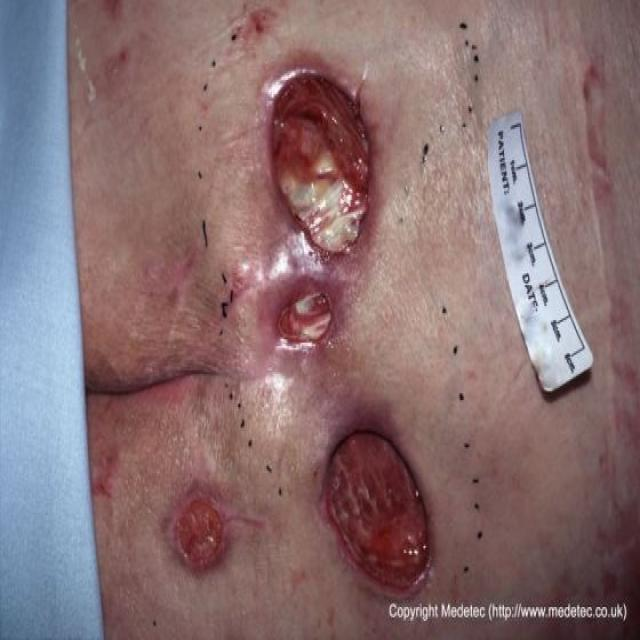stage-2: (176, 500, 224, 568)
stage-3: (326, 432, 429, 589)
stage-4: (274, 74, 366, 255), (280, 293, 331, 341)
